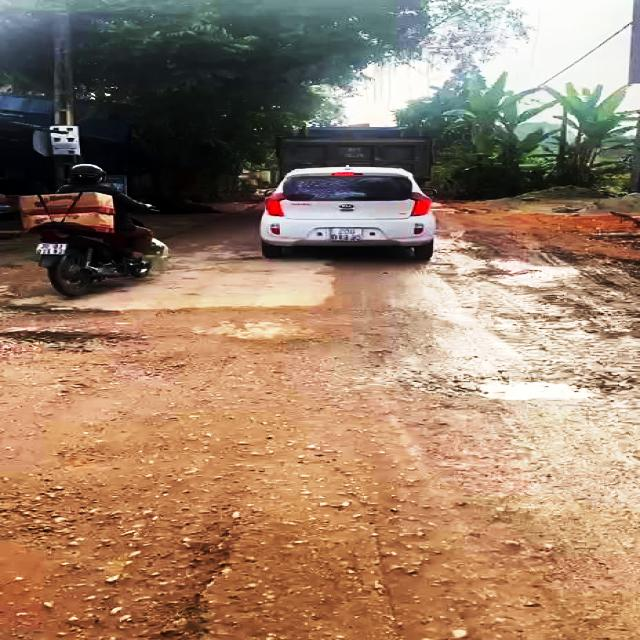pothole: (0, 445, 236, 640), (454, 368, 632, 403), (0, 325, 153, 357)
